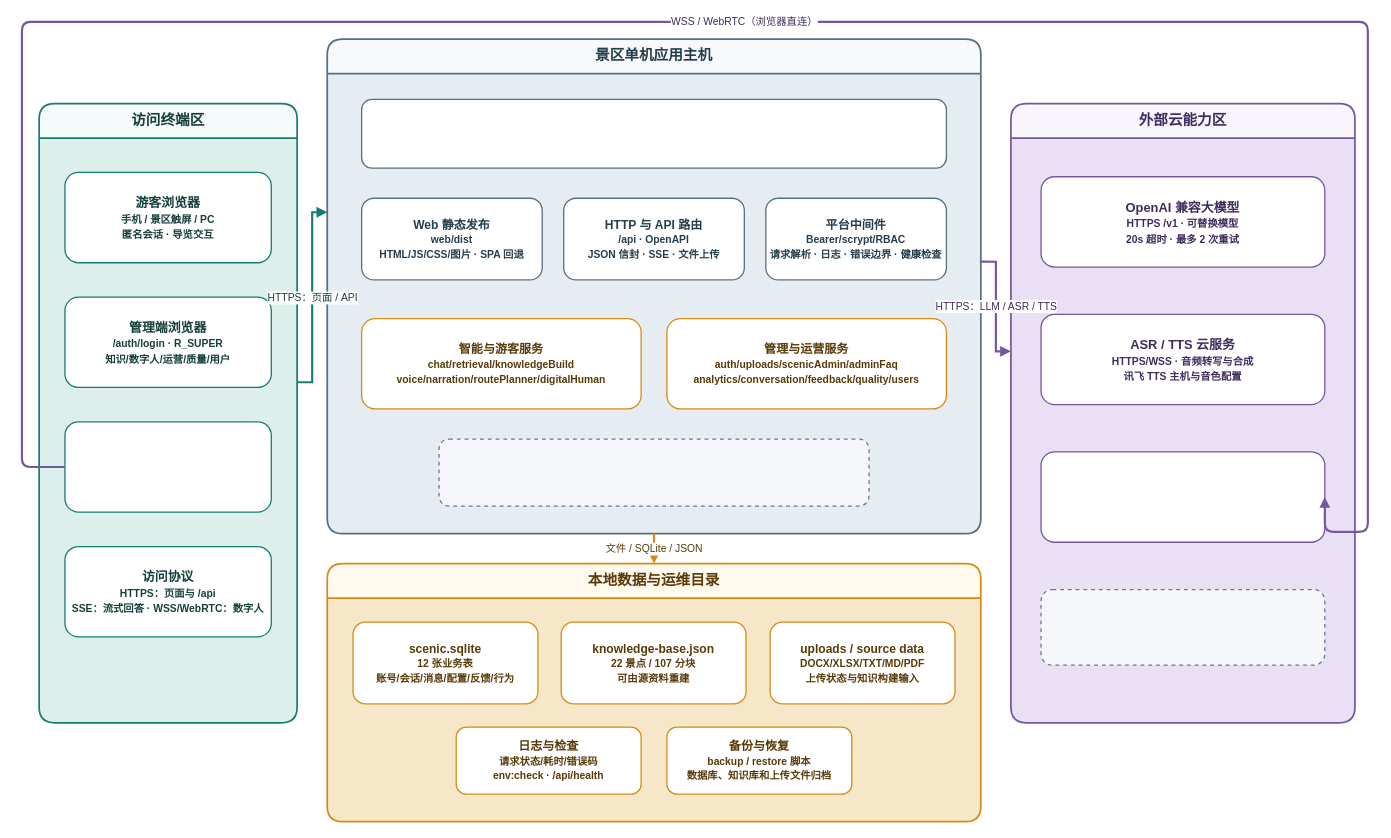
This 1391x838 diagram has some shape labels left out. The shapes that lost their labels are listed below. From the top down, each one's centre as x and y in pixels, then its label:
the point at 654,133: Node.js 同源进程 HOST=127.0.0.1 · PORT=5178 · 单进程启动 统一提供静态资源、SPA 回退与 /api
the point at 168,466: 浏览器前端运行时 Vue Router / Pinia / Axios useXfAvatar SDK · WebRTC 播放器
the point at 653,472: 本地确定性降级 DEMO_MODE=true · Mock 模型/语音 无云密钥时保留文本问答、引用、路线与管理闭环
the point at 1182,496: 讯飞交互式数字人云 WSS 鉴权 · WebRTC 视频流 形象/音色 · 语音/口型/表情/动作
the point at 1182,626: 云能力失败策略 连接/超时/密钥错误显式返回 自动切换文本或本地 Mock 链路
